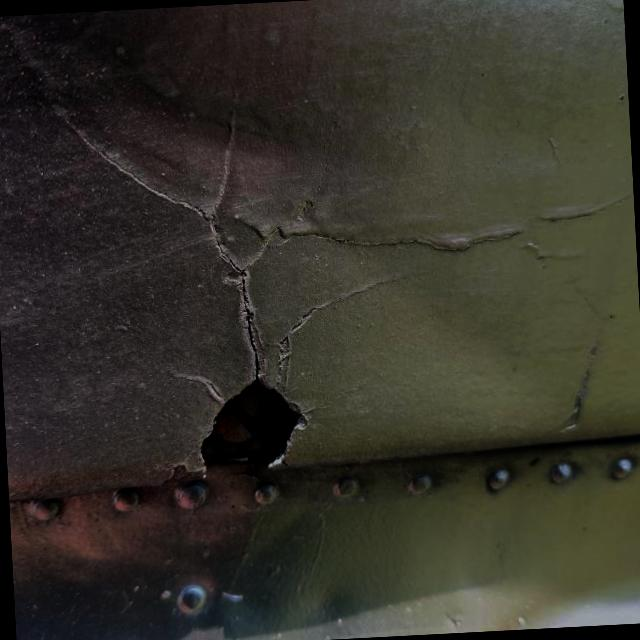crack: (86, 117, 378, 506)
